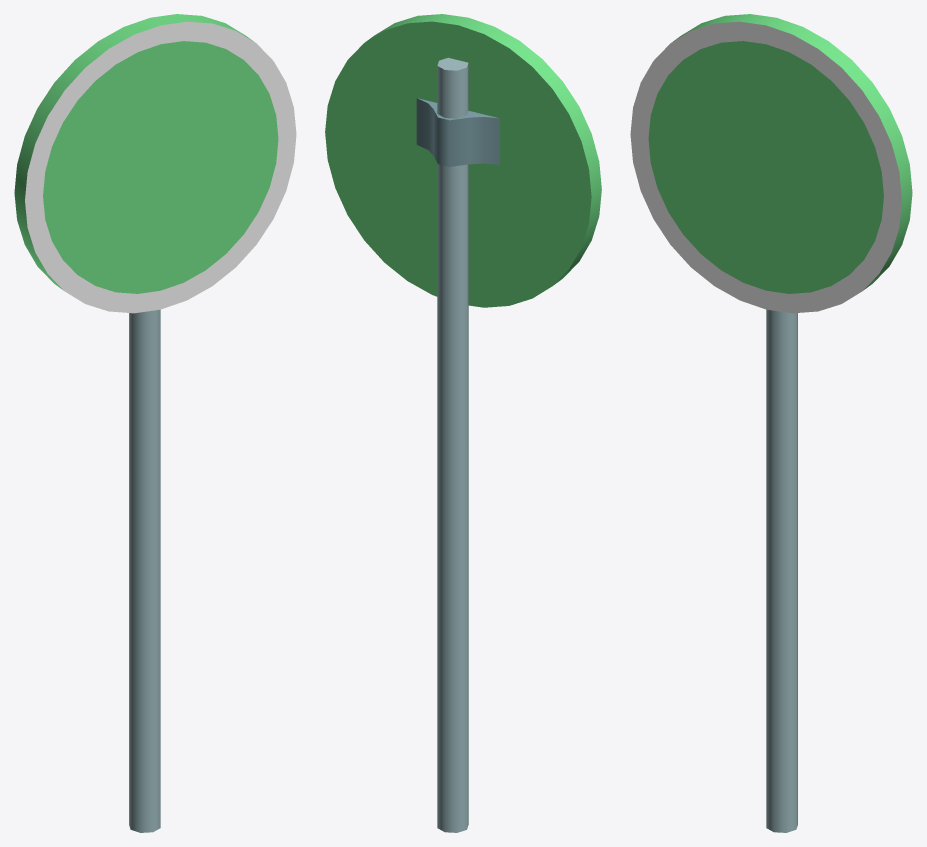
File: GreenWayPanel.fbx
The picture shows the model from 3 angles, left to right: view 1: azimuth 30°, elevation 25°; view 2: azimuth 150°, elevation 25°; view 3: azimuth 330°, elevation 25°; orthographic projection.
Visible parts, largest first — view 1: GreenWayPanel; view 2: GreenWayPanel; view 3: GreenWayPanel.
Part boxes in pixels (left/top/right/bottom): GreenWayPanel: left=14, top=14, right=296, bottom=832; GreenWayPanel: left=325, top=14, right=601, bottom=832; GreenWayPanel: left=630, top=14, right=912, bottom=832.
Bounding box in the file's own units: 2 × 0.3233 × 5.72.
